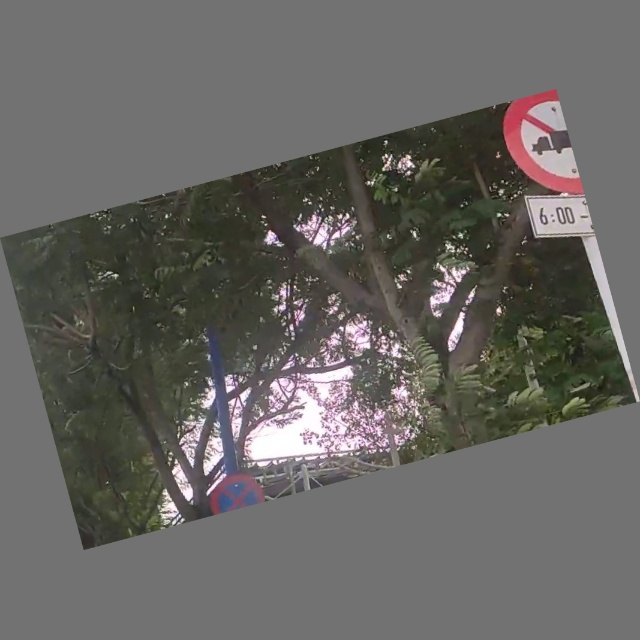B.8a: (498, 94, 593, 243)
P.130: (205, 469, 270, 517)
